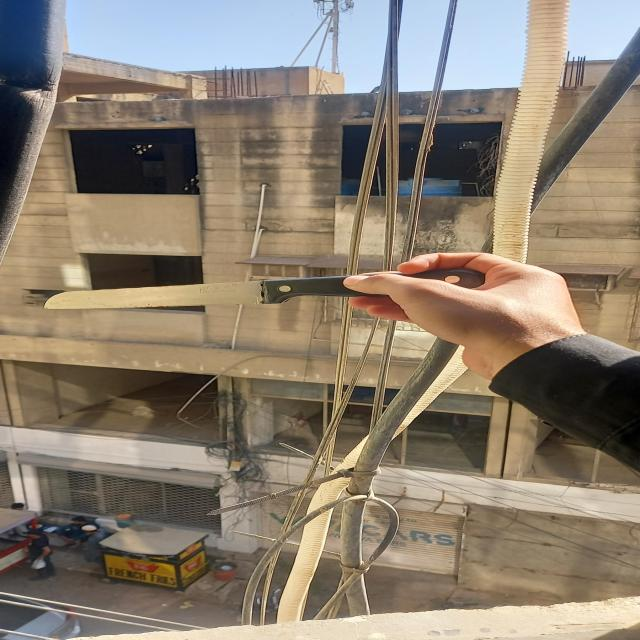Knife: (43, 268, 489, 309)
Person: (351, 251, 640, 478)
